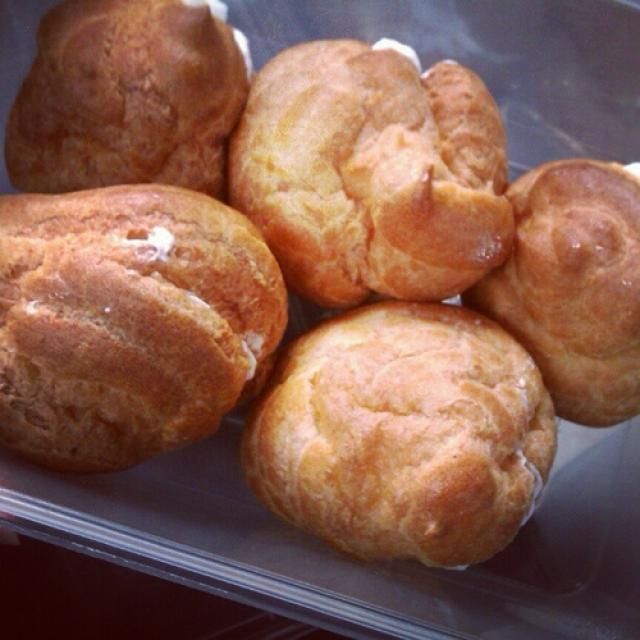炸货点心: (5, 2, 630, 578)
蛋糕甜品: (5, 2, 630, 578)
